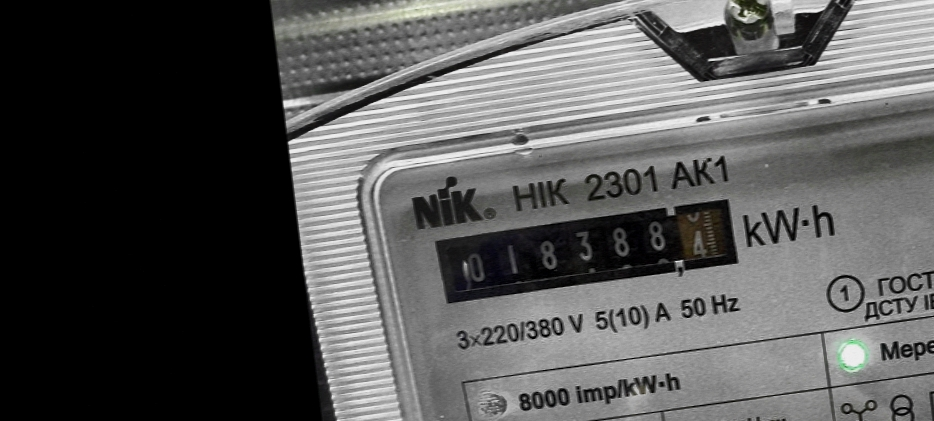0: (466, 246, 490, 285)
1: (503, 237, 525, 276)
3: (575, 226, 599, 263)
4: (688, 224, 712, 259)
8: (537, 233, 563, 272), (646, 215, 671, 253), (611, 222, 635, 260)
screen: (427, 186, 754, 315)
